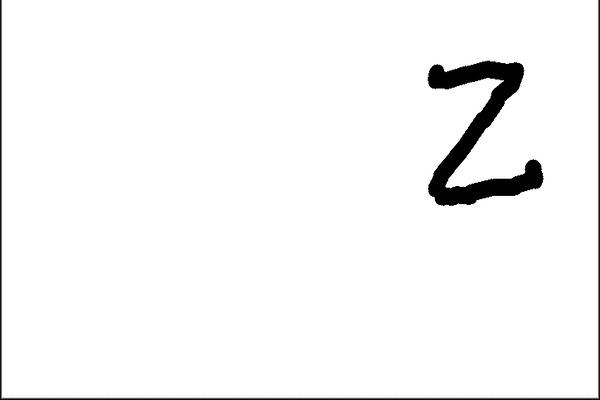Z: (413, 41, 559, 214)
